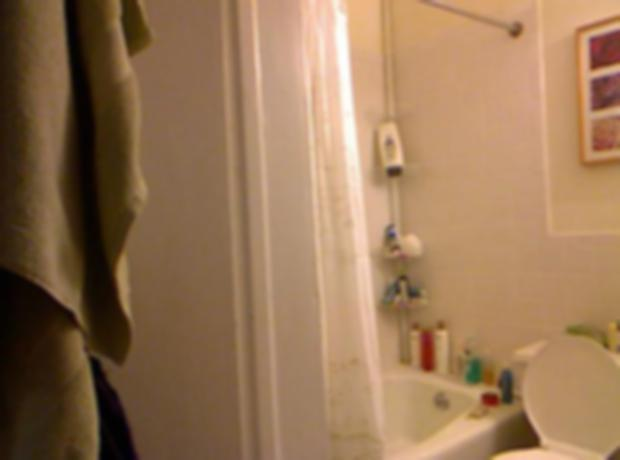Sanitario: (486, 341, 614, 457)
